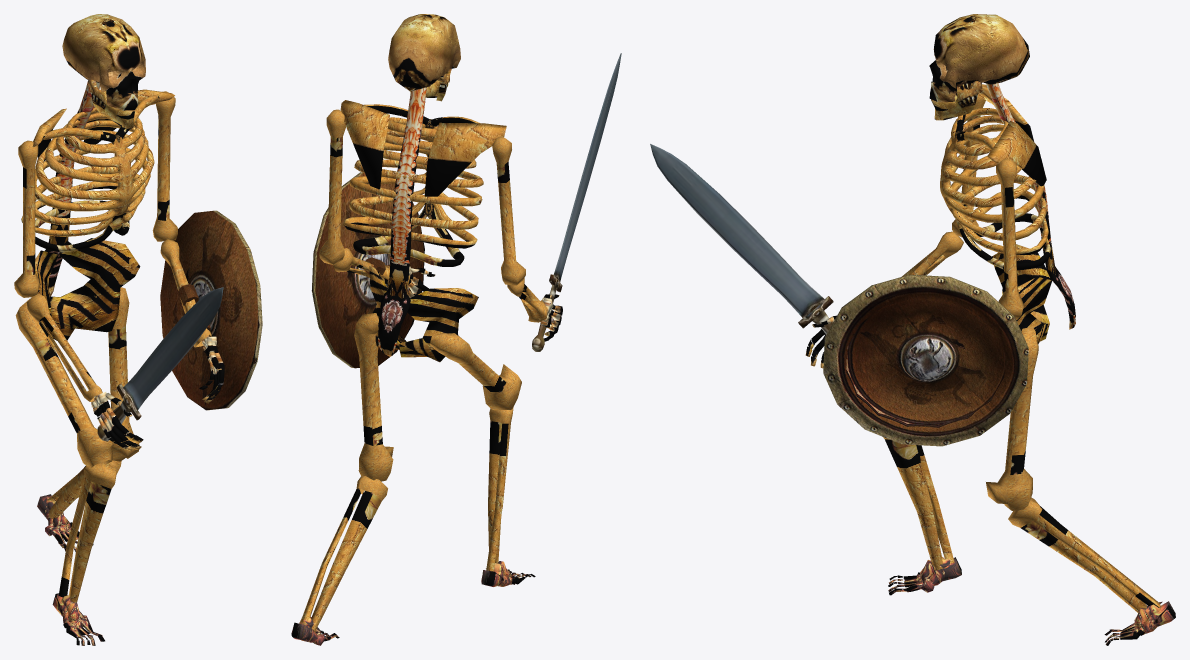
Rendered from Skeleton_000018.obj.
3 renders of one model, left to right at view 1: azimuth 30°, elevation 25°; view 2: azimuth 150°, elevation 25°; view 3: azimuth 270°, elevation 25°, orthographic. The views are drawn at different scales.
Visible parts, largest first — view 1: Shield_Shield.001, Costillar, Coxis, Femur, Skull, Humero, Tibia, Sword, Radio, Hands, Feet, Omoplato (+1 smaller); view 2: Costillar, Shield_Shield.001, Tibia, Femur, Omoplato, Humero, Skull, Coxis, Sword, Radio, Feet, Hands; view 3: Shield_Shield.001, Costillar, Tibia, Sword, Skull, Femur, Humero, Feet, Coxis, Omoplato, Mandibula, Radio.
Boxes of the visible parts, bbox=[...] form: Shield_Shield.001: bbox=[160, 210, 262, 410]; Costillar: bbox=[21, 81, 159, 296]; Coxis: bbox=[35, 238, 140, 340]; Femur: bbox=[15, 287, 139, 468]; Skull: bbox=[62, 14, 145, 110]; Humero: bbox=[14, 91, 177, 297]; Tibia: bbox=[47, 460, 121, 602]; Sword: bbox=[97, 287, 223, 441]; Radio: bbox=[27, 239, 211, 401]; Hands: bbox=[91, 335, 224, 450]; Feet: bbox=[37, 494, 104, 645]; Omoplato: bbox=[32, 89, 174, 161]; Costillar: bbox=[344, 87, 483, 356]; Shield_Shield.001: bbox=[311, 172, 424, 368]; Tibia: bbox=[300, 407, 513, 631]; Femur: bbox=[354, 313, 521, 481]; Omoplato: bbox=[340, 100, 506, 196]; Humero: bbox=[319, 109, 525, 285]; Skull: bbox=[388, 14, 460, 91]; Coxis: bbox=[369, 266, 478, 362]; Sword: bbox=[532, 53, 621, 351]; Radio: bbox=[333, 248, 547, 322]; Feet: bbox=[291, 561, 535, 645]; Hands: bbox=[407, 266, 562, 341]; Shield_Shield.001: bbox=[823, 274, 1028, 446]; Costillar: bbox=[940, 83, 1075, 329]; Tibia: bbox=[883, 437, 1160, 612]; Sword: bbox=[650, 144, 833, 334]; Skull: bbox=[929, 14, 1029, 102]; Femur: bbox=[986, 327, 1038, 510]; Humero: bbox=[952, 95, 1024, 319]; Feet: bbox=[888, 557, 1175, 645]; Coxis: bbox=[992, 244, 1051, 344]; Omoplato: bbox=[970, 83, 1046, 186]; Mandibula: bbox=[931, 80, 982, 120]; Radio: bbox=[901, 231, 963, 276].
Bounding box in the file's own units: 2.83 × 8.31 × 6.52.
5 materials, 5 textured.
